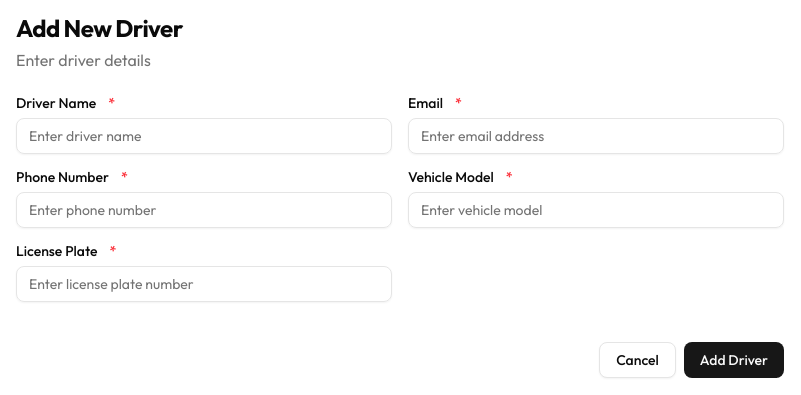
Scenario: DriverForm › shows loading state during form submission
This screenshot has width=801, height=395.
// Fill in form fields
In the field labelled "Driver Name *": {"x": 204, "y": 136} [16, 118, 392, 154], type "John Doe"
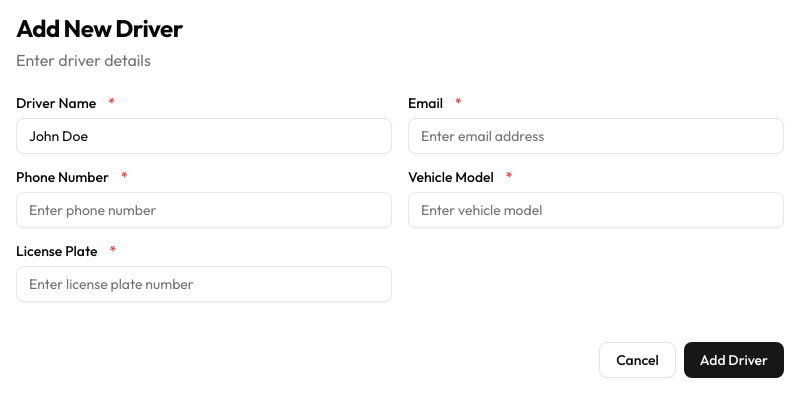
In the field labelled "Email *": {"x": 596, "y": 136} [408, 118, 784, 154], type "john@example.com"
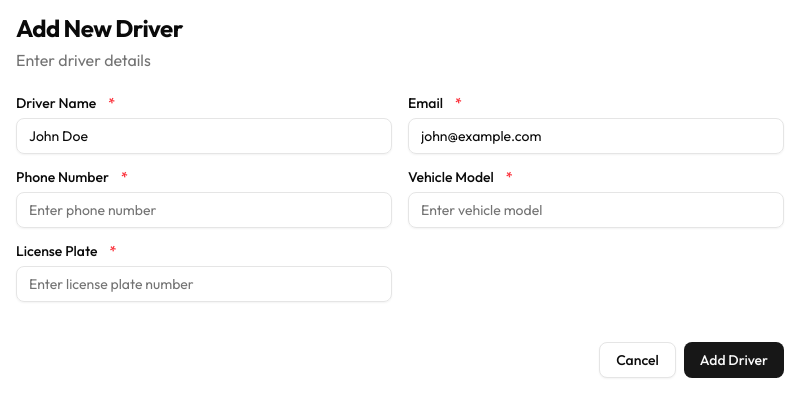
In the field labelled "Phone Number *": {"x": 204, "y": 210} [16, 192, 392, 228], type "1234567890"
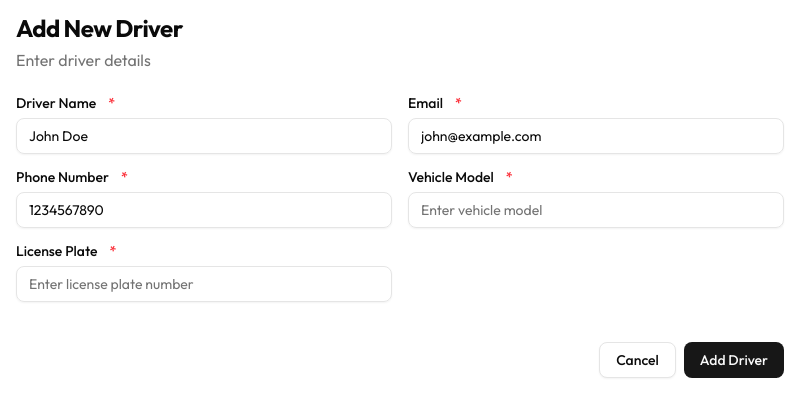
In the field labelled "Vehicle Model *": {"x": 596, "y": 210} [408, 192, 784, 228], type "Toyota Camry"
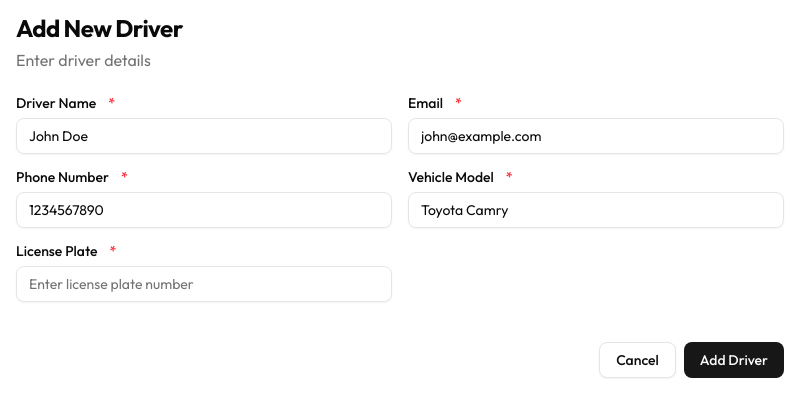
In the field labelled "License Plate *": {"x": 204, "y": 284} [16, 266, 392, 302], type "ABC123"
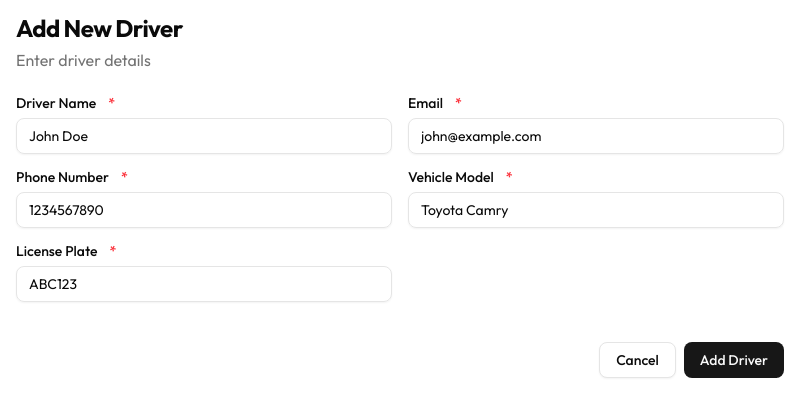
// Submit form
Click the button "Add Driver": {"x": 734, "y": 360} [684, 342, 784, 378]
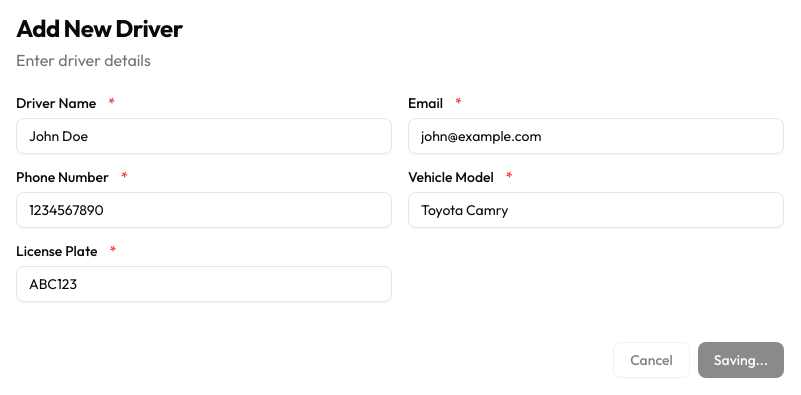
Check: the button "Saving..." is shown, box [698, 342, 784, 378]
